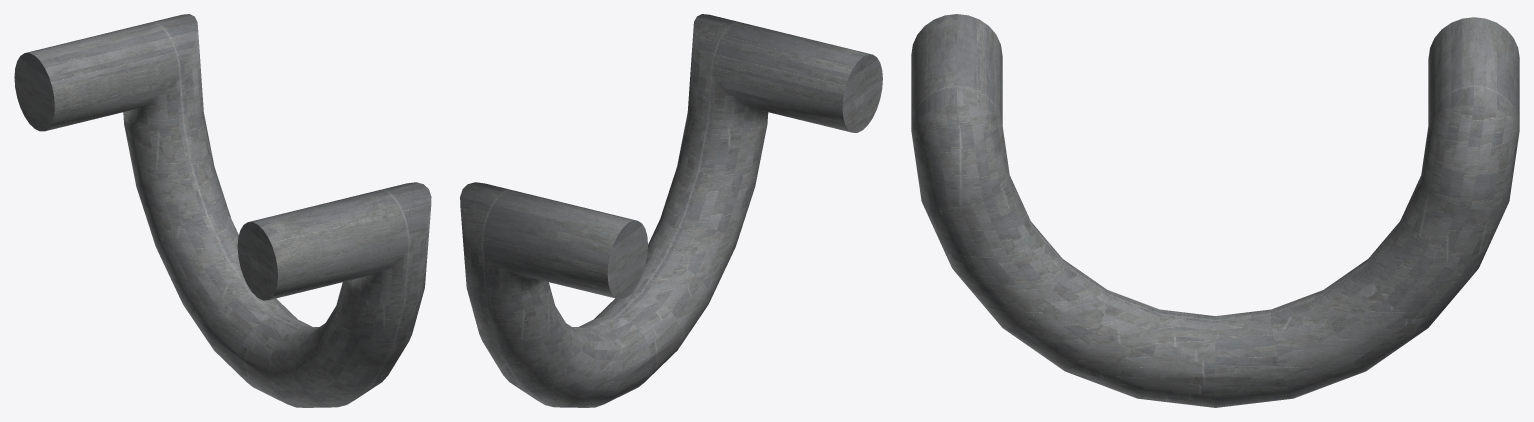
File: original-63.obj
The picture shows the model from 3 angles, left to right: view 1: azimuth 30°, elevation 25°; view 2: azimuth 150°, elevation 25°; view 3: azimuth 270°, elevation 25°; orthographic projection. The views are drawn at different scales.
Visible parts, largest first — view 1: Rope_Handles2/Rope_Handles12/mesh15/mesh15-geometry#mesh15-geome; view 2: Rope_Handles2/Rope_Handles12/mesh15/mesh15-geometry#mesh15-geome; view 3: Rope_Handles2/Rope_Handles12/mesh15/mesh15-geometry#mesh15-geome.
Part boxes in pixels (x1,y1,x2,y2): Rope_Handles2/Rope_Handles12/mesh15/mesh15-geometry#mesh15-geome: (14,14,431,407); Rope_Handles2/Rope_Handles12/mesh15/mesh15-geometry#mesh15-geome: (460,14,882,407); Rope_Handles2/Rope_Handles12/mesh15/mesh15-geometry#mesh15-geome: (911,14,1519,407).
Size of the model in its own units: 0.1542 by 0.2494 by 0.4337.
